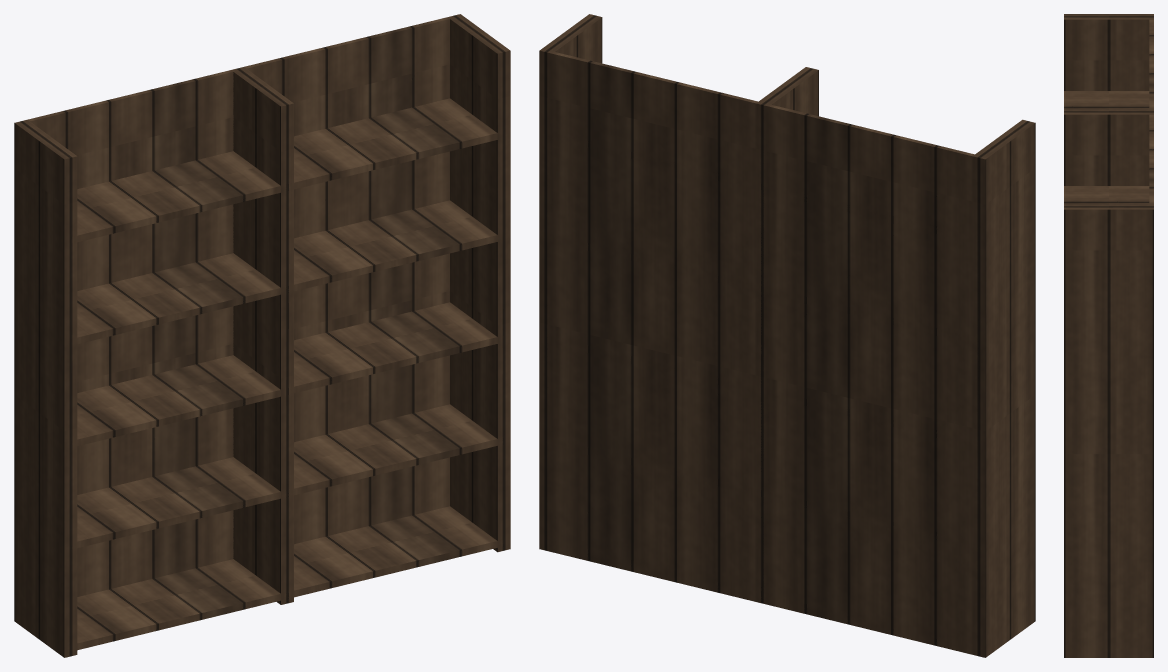
The model's file is Shelf_Apothecary_1_LOD2.gltf.
3 renders of one model, left to right at view 1: azimuth 30°, elevation 25°; view 2: azimuth 150°, elevation 25°; view 3: azimuth 270°, elevation 25°, orthographic. The views are drawn at different scales.
Parts seen in each view (by area): view 1: Shelf_Apothecary_1_LOD2; view 2: Shelf_Apothecary_1_LOD2; view 3: Shelf_Apothecary_1_LOD2.
Part boxes in pixels (x1,y1,x2,y2): Shelf_Apothecary_1_LOD2: (14,14,510,657); Shelf_Apothecary_1_LOD2: (539,14,1035,657); Shelf_Apothecary_1_LOD2: (1064,14,1153,657).
Bounding box in the file's own units: 2.06 × 2.2 × 0.4.
1 material, 1 textured.
